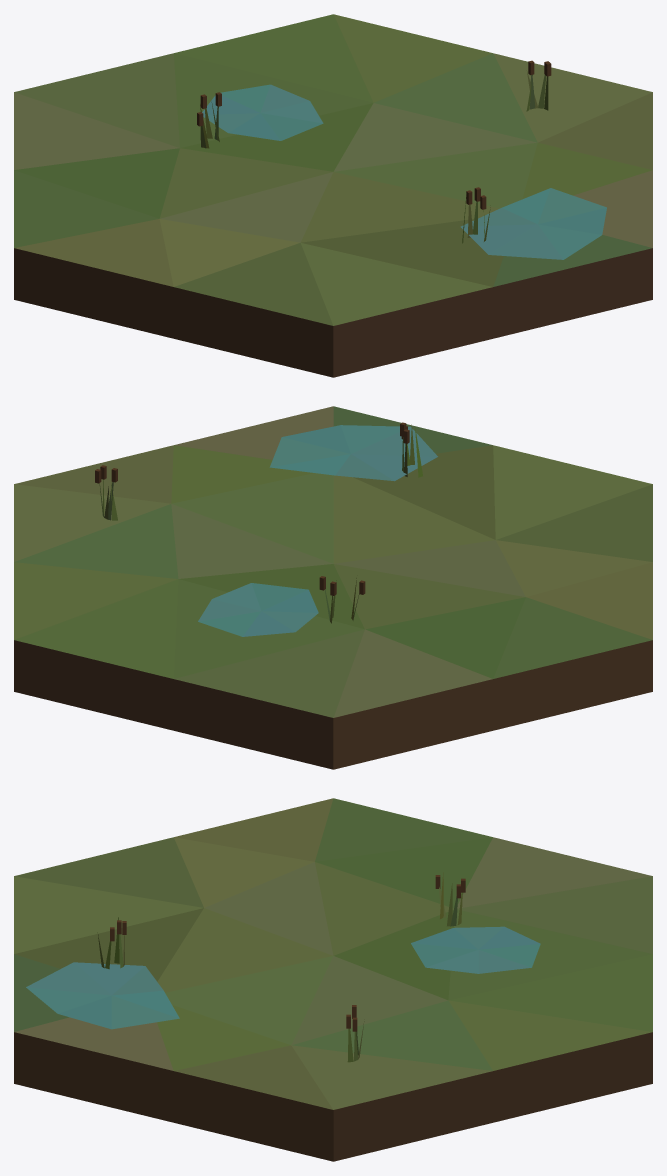
File: Marsh-Far.glb
The picture shows the model from 3 angles, top to bottom: view 1: azimuth 30°, elevation 25°; view 2: azimuth 150°, elevation 25°; view 3: azimuth 270°, elevation 25°; orthographic projection.
Visible parts, largest first — view 1: Marsh-Far; view 2: Marsh-Far; view 3: Marsh-Far.
Part boxes in pixels (box(x1,y1,x2,y2)): Marsh-Far: box(14, 14, 652, 377); Marsh-Far: box(14, 406, 652, 769); Marsh-Far: box(14, 798, 652, 1161).
Bounding box in the file's own units: 1.94 × 0.3023 × 1.68.
